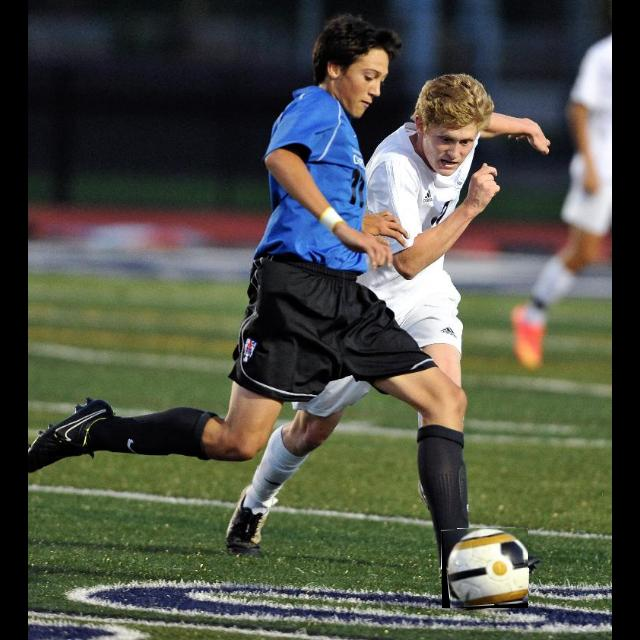Football: (442, 528, 528, 608)
